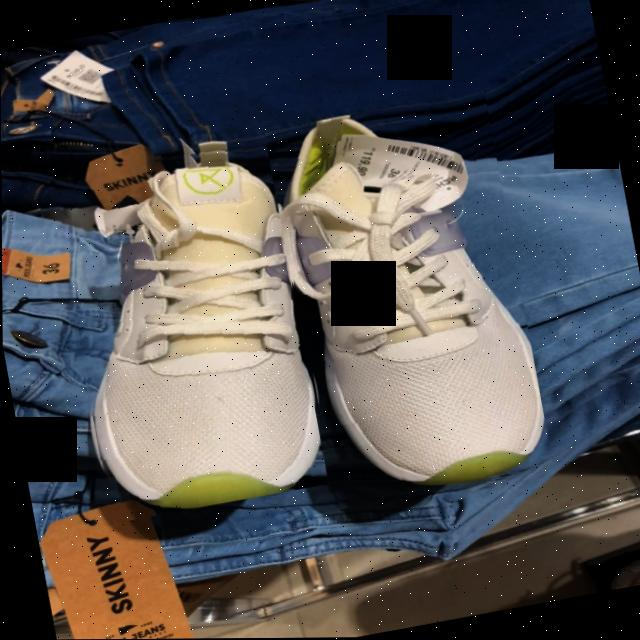shoe: (285, 117, 543, 489), (93, 149, 319, 510)
